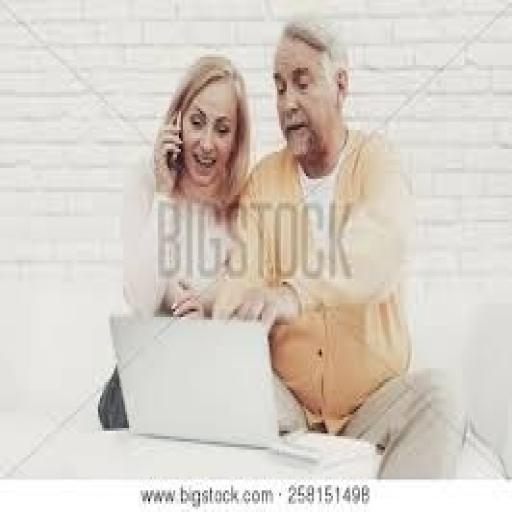using_laptop: (108, 306, 375, 469)
